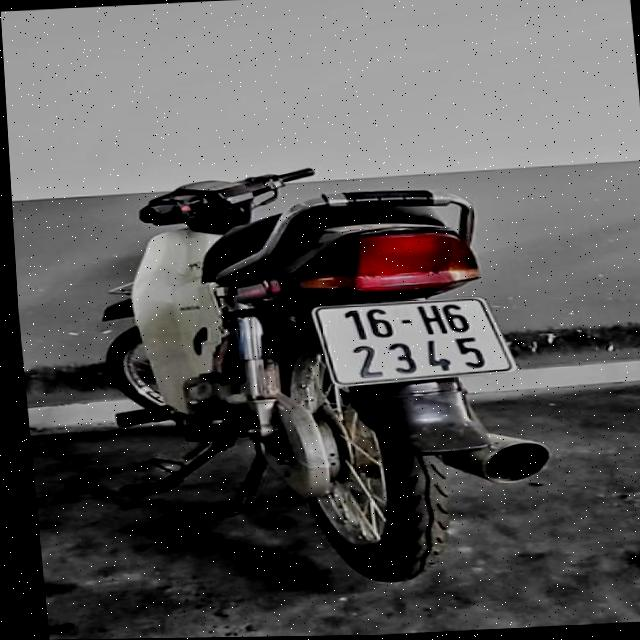motorcycle: (66, 150, 584, 610)
plate: (307, 290, 517, 392)
